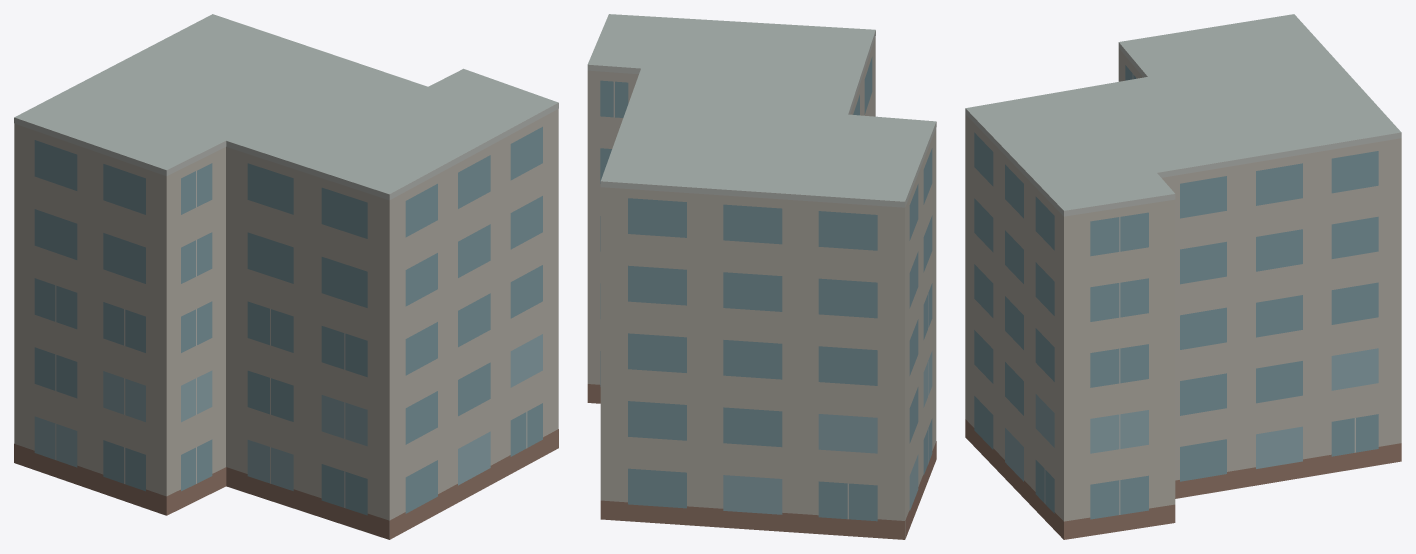
File: survey-upis-33030316.glb
The picture shows the model from 3 angles, left to right: view 1: azimuth 30°, elevation 25°; view 2: azimuth 150°, elevation 25°; view 3: azimuth 270°, elevation 25°; orthographic projection. The views are drawn at different scales.
Visible parts, largest first — view 1: survey-upis-33030316.tmp; view 2: survey-upis-33030316.tmp; view 3: survey-upis-33030316.tmp.
Boxes of the visible parts, x1,y1,x2,y2 form: survey-upis-33030316.tmp: [14, 14, 558, 539]; survey-upis-33030316.tmp: [587, 14, 936, 539]; survey-upis-33030316.tmp: [965, 14, 1401, 539].
Bounding box in the file's own units: 17.98 × 14 × 16.83.
